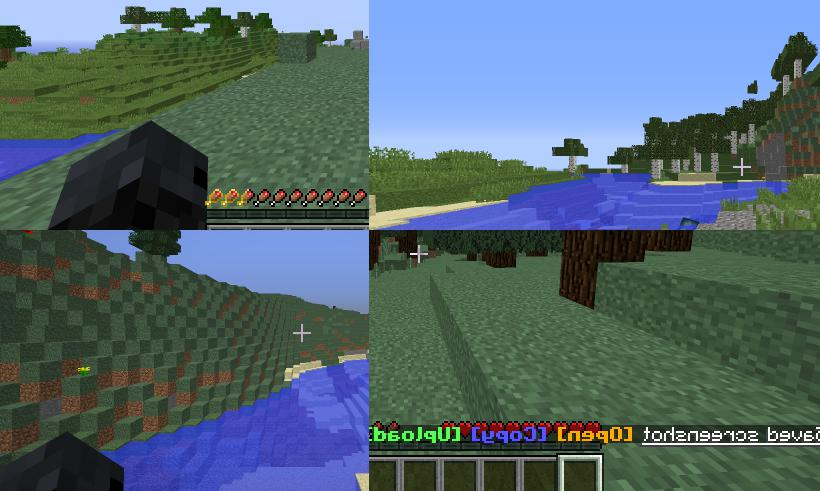minecraft-blocks: (557, 231, 665, 304), (370, 231, 381, 270), (653, 160, 662, 181), (795, 60, 803, 81), (1, 48, 13, 61), (695, 154, 702, 174), (712, 154, 719, 174), (732, 132, 738, 155), (570, 157, 578, 173), (784, 76, 790, 97), (750, 125, 755, 149), (673, 160, 681, 174), (242, 28, 249, 40), (684, 160, 691, 172), (133, 25, 142, 34), (742, 134, 748, 145), (176, 29, 184, 36), (623, 166, 629, 174)
